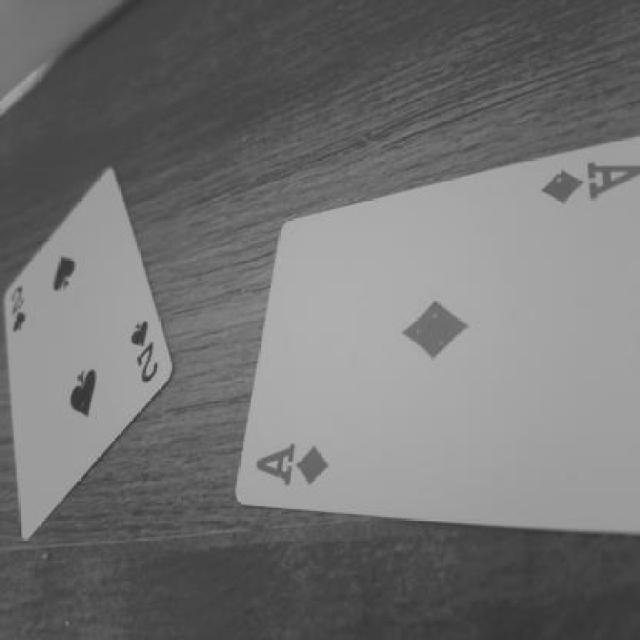2S: (116, 298, 169, 398)
AD: (242, 430, 360, 512)
